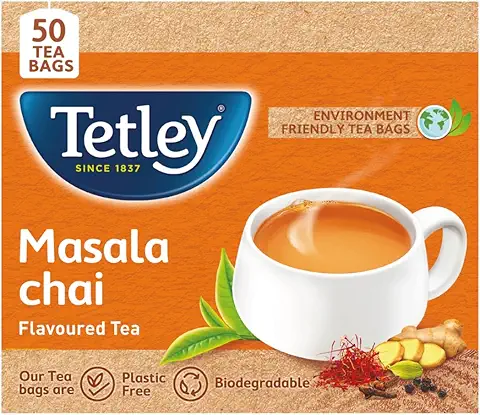Tea: (4, 4, 479, 412)
